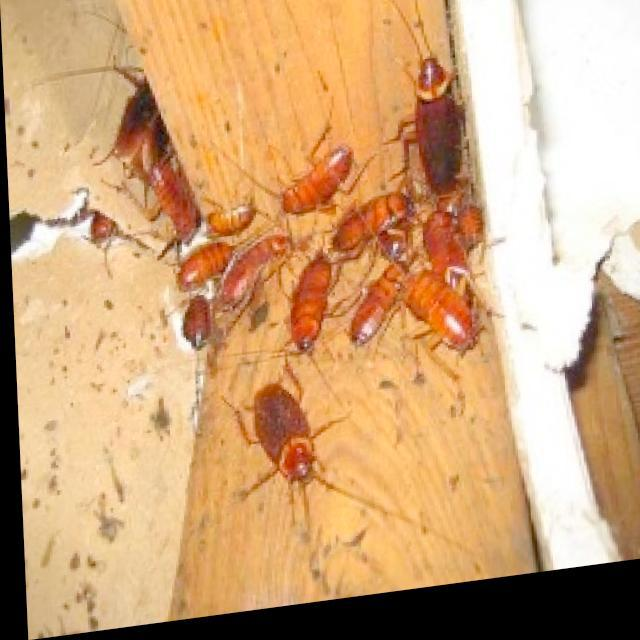cockroach: (234, 357, 337, 515), (395, 38, 475, 222), (397, 259, 483, 378), (341, 241, 432, 353), (320, 174, 425, 268), (268, 137, 361, 239), (109, 77, 189, 191), (286, 240, 348, 371), (214, 224, 296, 322), (142, 153, 208, 247), (199, 179, 276, 250), (168, 234, 237, 302), (422, 210, 472, 298), (177, 290, 226, 363), (81, 195, 127, 257), (453, 186, 485, 272)
